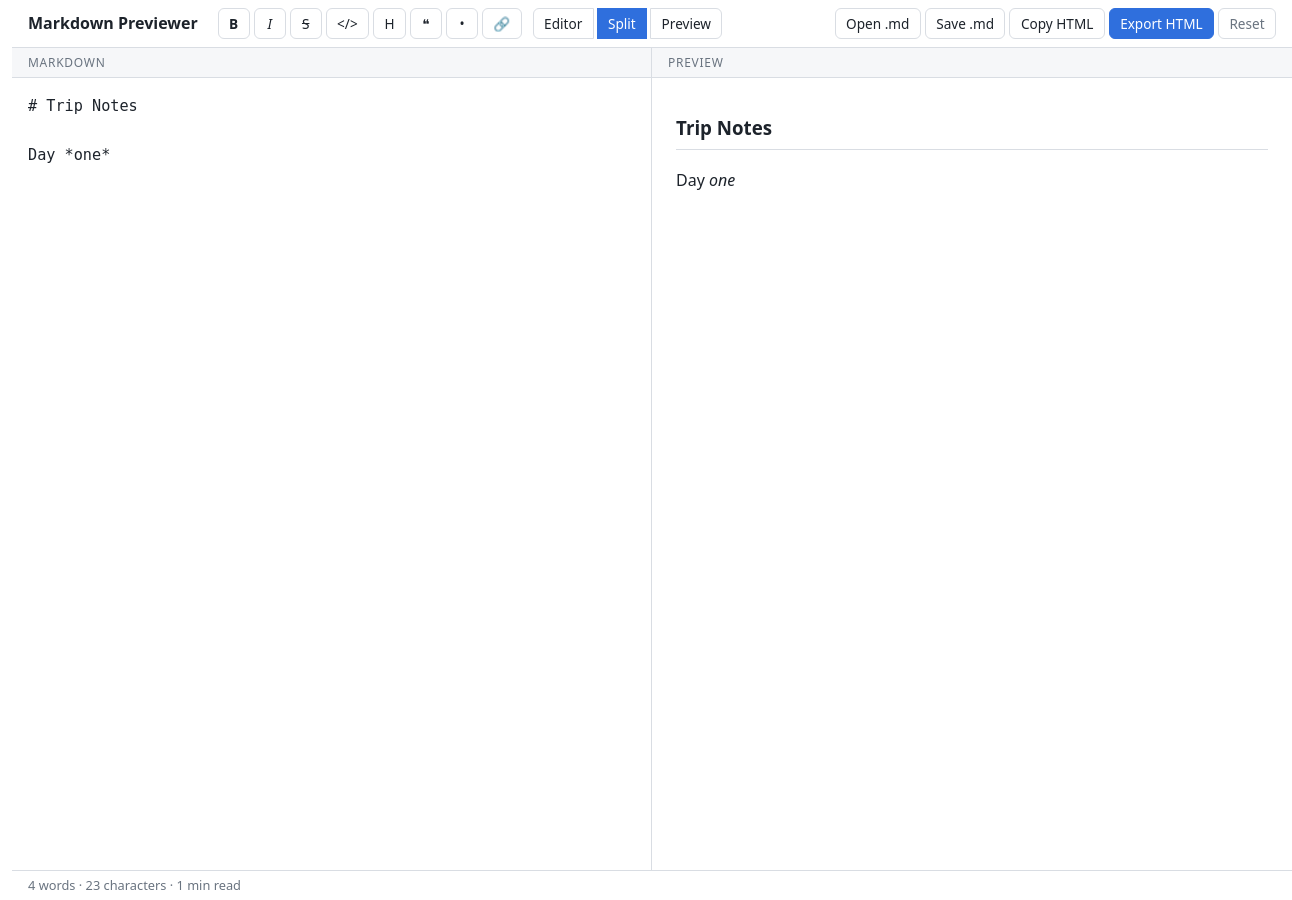
Test: <App /> › exports a standalone HTML file named after the title
The width and height of the screenshot is (1292, 900).
Click the button "Export HTML": (1161, 23) 1109,8 -> 1214,39
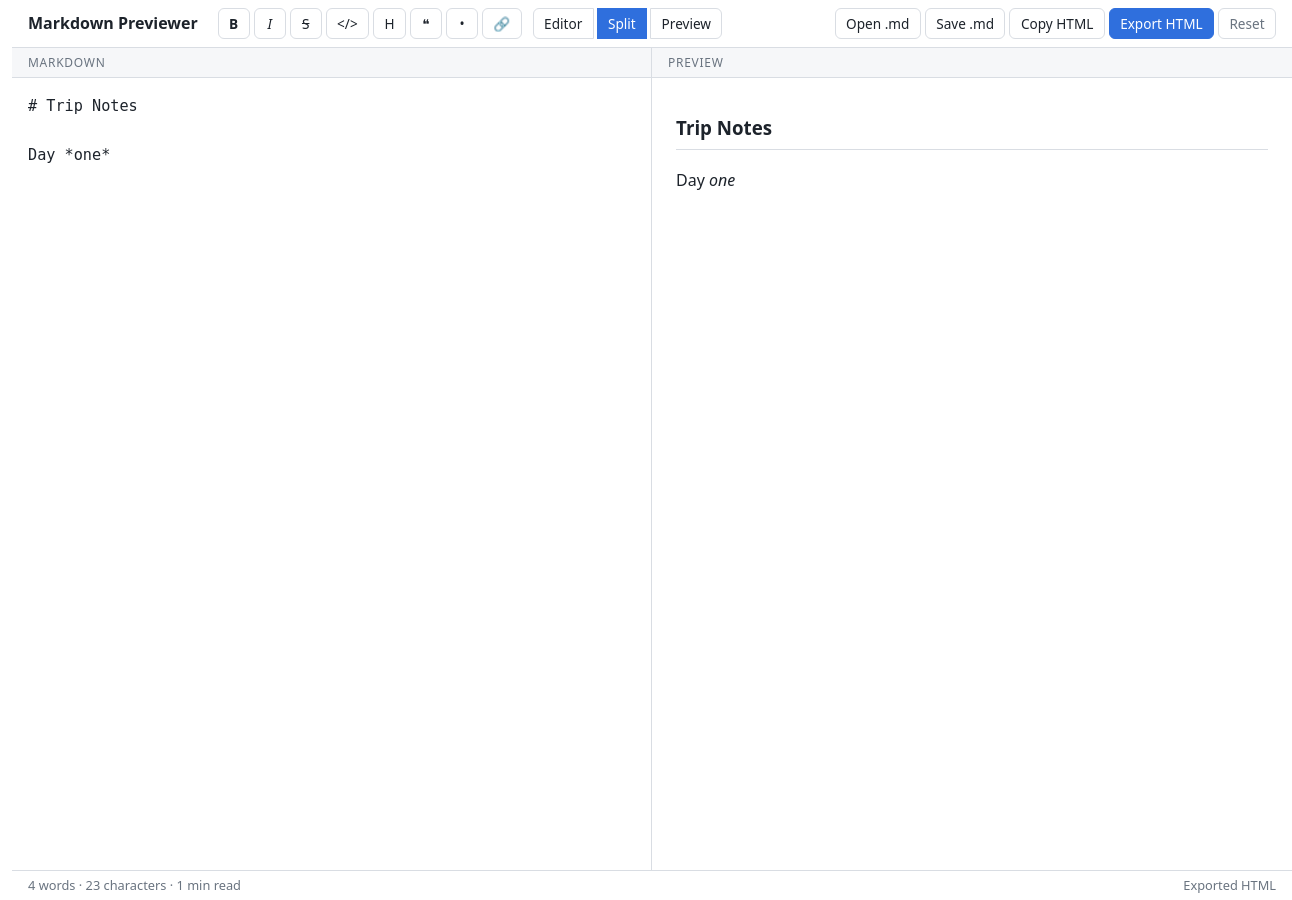
Expected: the message reads "Exported HTML", 1183,876 -> 1276,894
